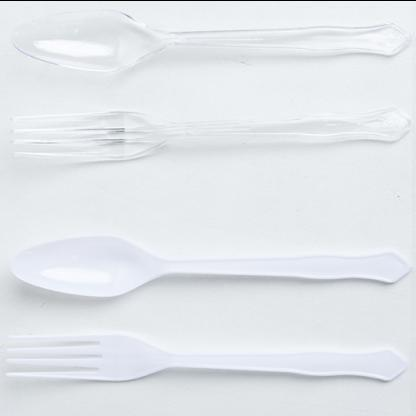Others: (4, 236, 410, 380), (7, 96, 412, 164), (7, 8, 412, 76)
